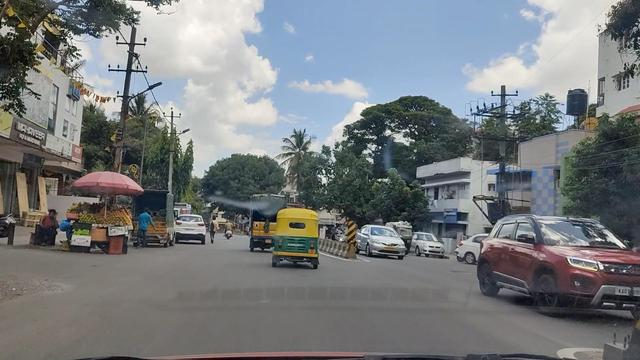LMV: (273, 208, 319, 257)
